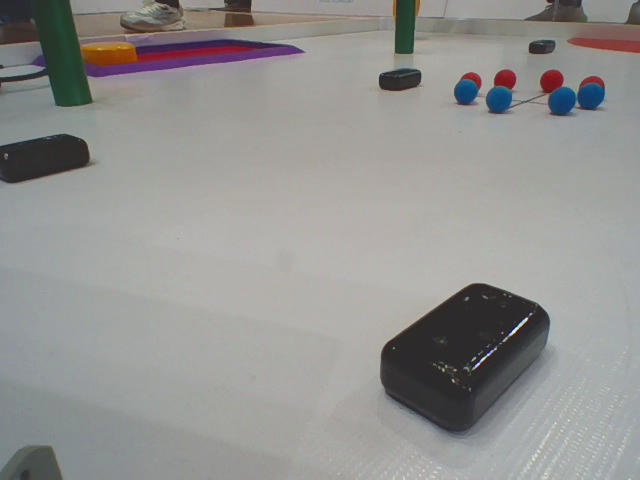black: (377, 276, 559, 426), (1, 131, 93, 185), (378, 67, 425, 90), (528, 37, 556, 54)
blue: (548, 84, 576, 114), (484, 82, 510, 113), (452, 79, 482, 103), (580, 84, 605, 110)
kuang: (30, 27, 304, 77)
red: (582, 71, 606, 95), (492, 67, 516, 88), (539, 67, 562, 88), (460, 71, 483, 90)
yellow: (69, 39, 144, 67)
zhuzi: (34, 1, 100, 108), (391, 1, 415, 52)
